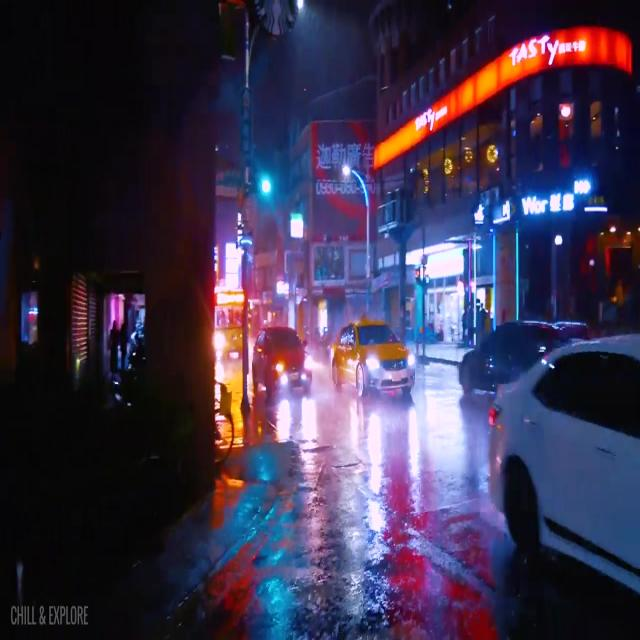Car: (332, 318, 415, 391), (249, 324, 312, 391)
